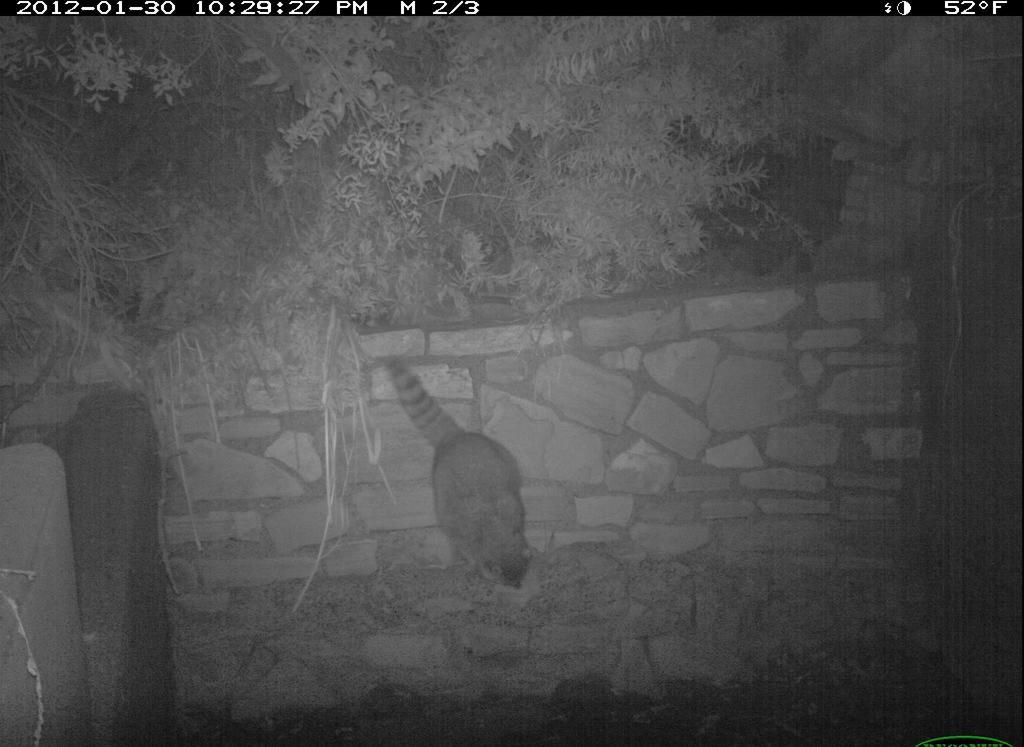raccoon: (376, 351, 545, 600)
